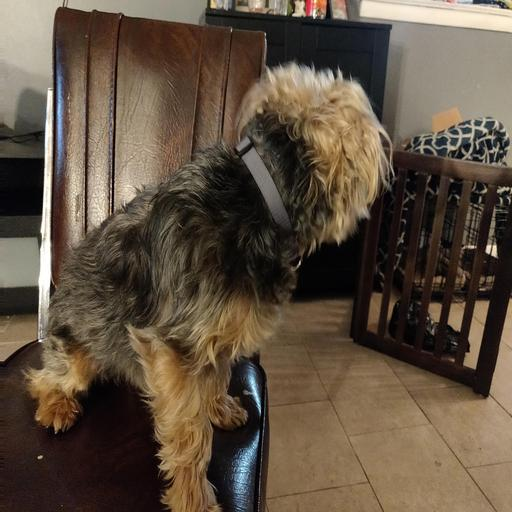dog: (177, 65, 407, 295)
